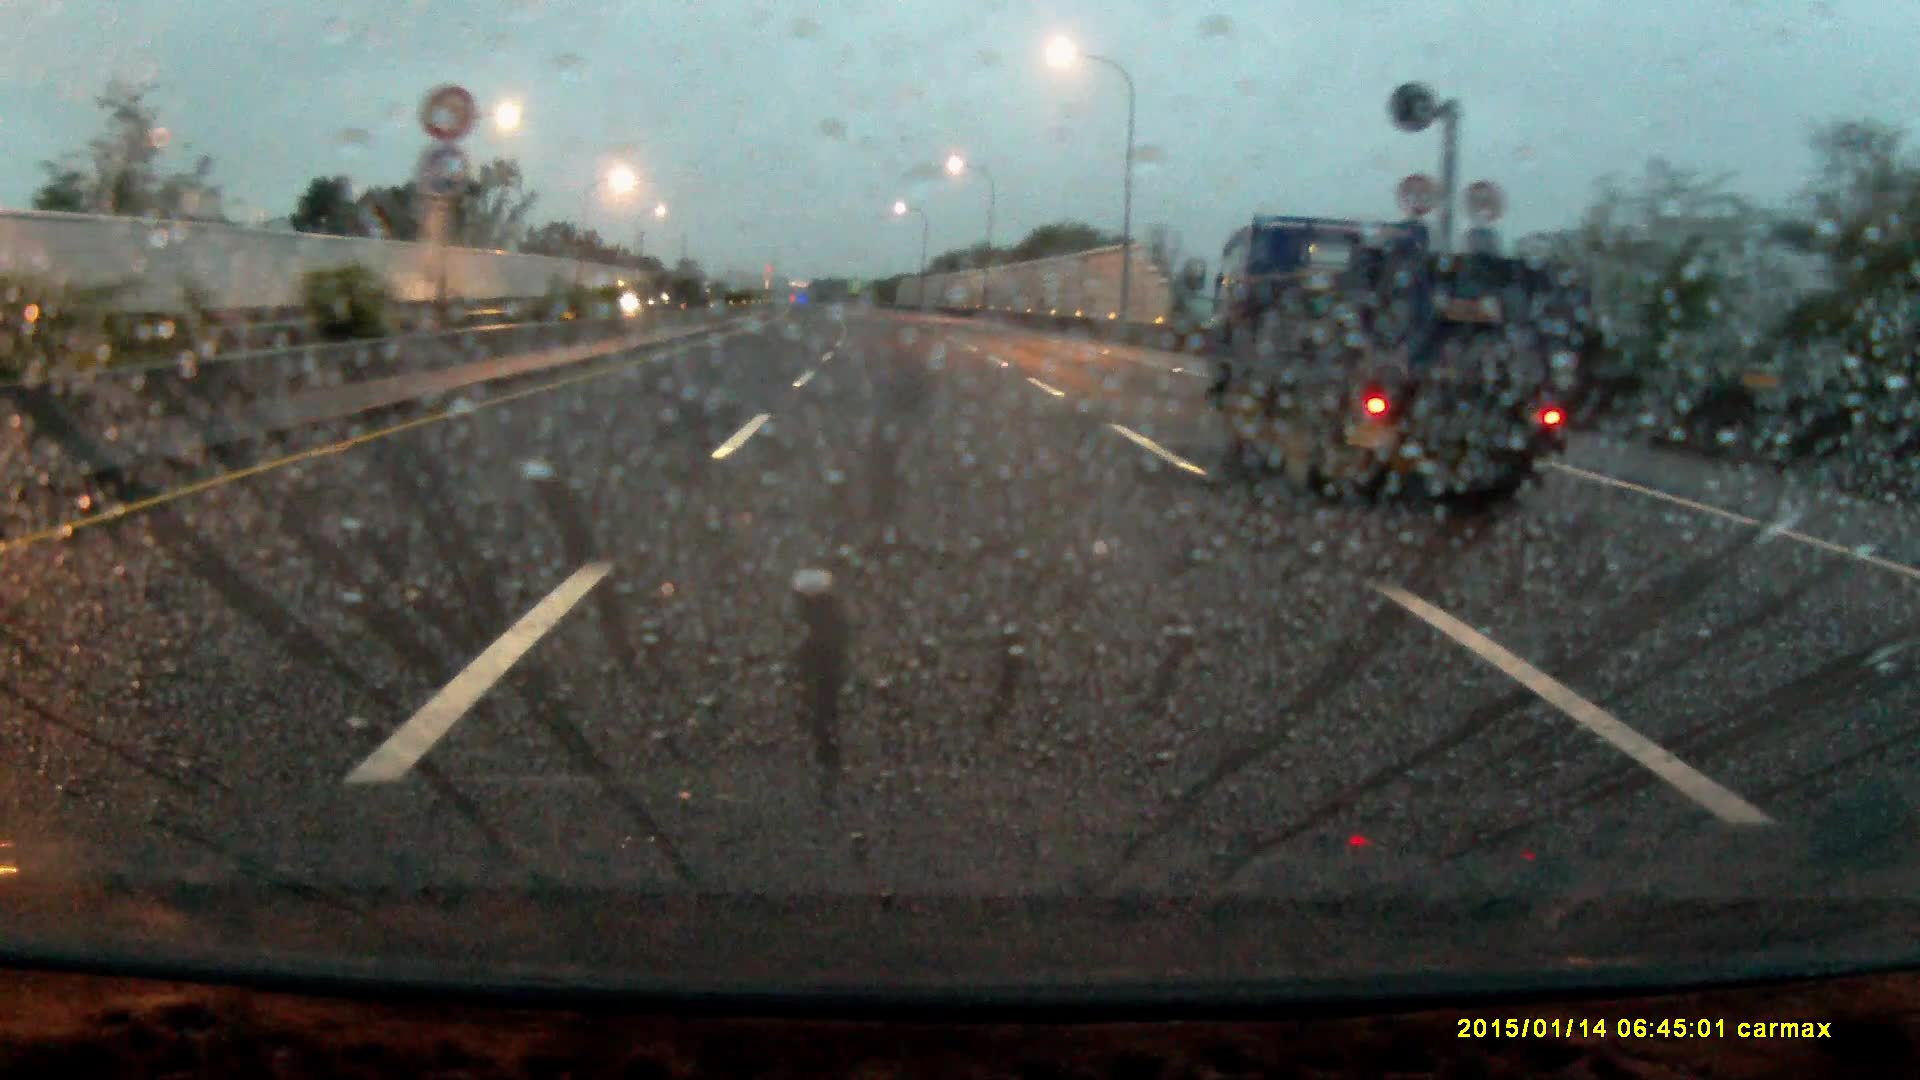vehicle: (1213, 204, 1613, 529)
